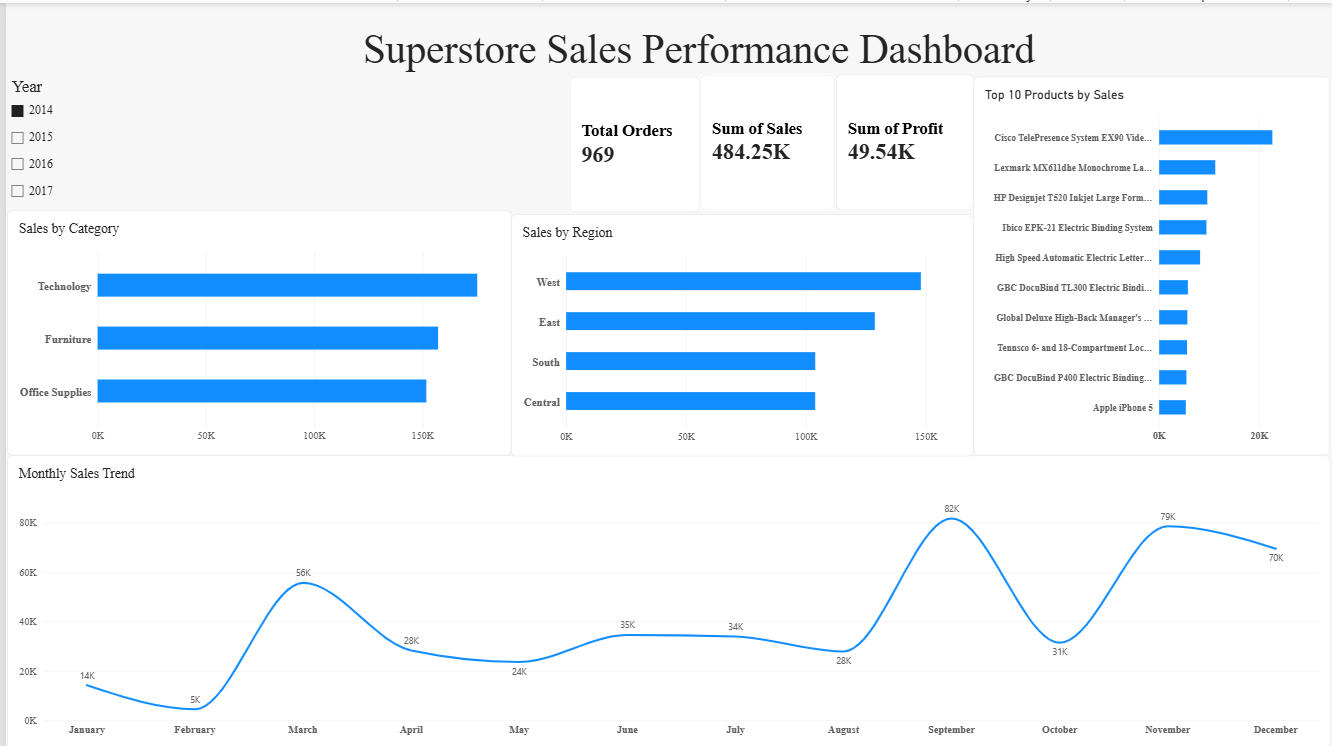

This screenshot's page, from the dashboard's own definition file:
{"tool":"powerbi","page":{"name":"Page 1","canvas":[1920,1080],"ordinal":0},"visuals":[{"type":"cardVisual","fields":{"Data":["Sum(Sample - Superstore.Sales)"]},"box":[1003.5,103,197.8,197.8],"z":0},{"type":"cardVisual","fields":{"Data":["Sum(Sample - Superstore.Profit)"]},"box":[1201.3,103,199.9,197.8],"z":1000},{"type":"clusteredBarChart","title":"Sales by Category","fields":{"Category":["Sample - Superstore.Category"],"Y":["Sum(Sample - Superstore.Sales)"]},"box":[2.1,300.8,729.4,354.4],"z":2000},{"type":"lineChart","title":"Monthly Sales Trend","fields":{"Category":["Sample - Superstore.Order Date.Variation.Date Hierarchy.Month"],"Y":["Sum(Sample - Superstore.Sales)"]},"box":[1.8,655.1,1916.4,425.3],"z":3000},{"type":"clusteredBarChart","title":"Sales by Region","fields":{"Category":["Sample - Superstore.Region"],"Y":["Sum(Sample - Superstore.Sales)"]},"box":[731.5,305,669.7,350.3],"z":4000},{"type":"textbox","box":[307.7,33.8,1390.8,92.3],"z":5000},{"type":"slicer","fields":{"Values":["Sample - Superstore.Order Date.Variation.Date Hierarchy.Year"]},"box":[0,107.1,401.8,193.7],"z":6000},{"type":"clusteredBarChart","title":"Top 10 Products by Sales","fields":{"Category":["Sample - Superstore.Product Name"],"Y":["Sum(Sample - Superstore.Sales)"]},"box":[1401.2,107.1,517.2,548.1],"z":7000},{"type":"cardVisual","fields":{"Data":["Count(Sample - Superstore.Order ID)"]},"box":[815.5,107,188.4,196.9],"z":8000}]}

Visuals, with their boxes in screenshot pixels (x1, y1, x2, y2), scaled from the page's 1920x1080 canvas onto the 1332x746 screenshot:
cardVisual - Sum(Sample - Superstore.Sales): <box>696,71,833,208</box>
cardVisual - Sum(Sample - Superstore.Profit): <box>833,71,972,208</box>
"Sales by Category" clusteredBarChart: <box>1,208,507,453</box>
"Monthly Sales Trend" lineChart: <box>1,453,1331,745</box>
"Sales by Region" clusteredBarChart: <box>507,211,972,453</box>
textbox: <box>213,23,1178,87</box>
slicer - Sample - Superstore.Order Date.Variation.Date Hierarchy.Year: <box>0,74,279,208</box>
"Top 10 Products by Sales" clusteredBarChart: <box>972,74,1331,453</box>
cardVisual - Count(Sample - Superstore.Order ID): <box>566,74,696,210</box>
